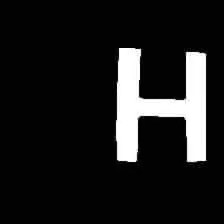LTR_H: (111, 40, 209, 166)
